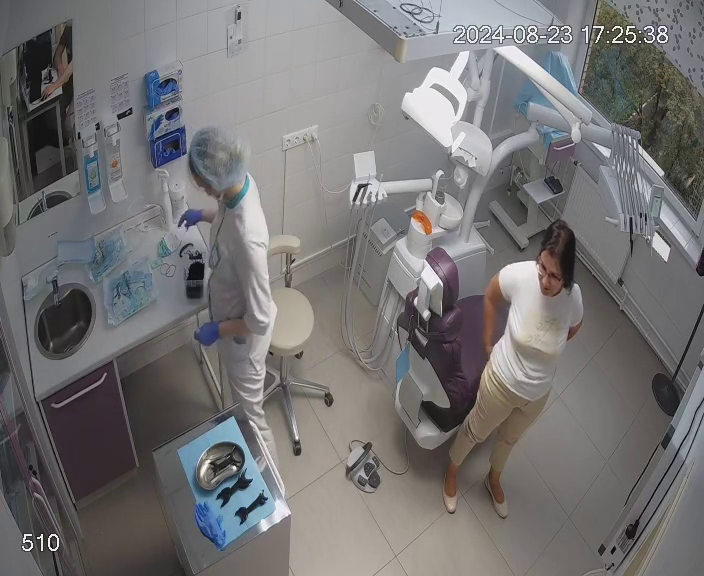Empty: (388, 241, 500, 451)
